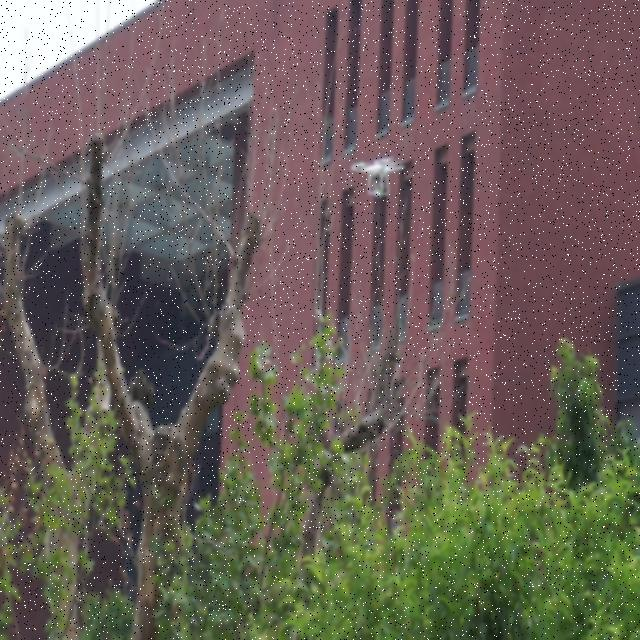UAV: (350, 157, 404, 197)
